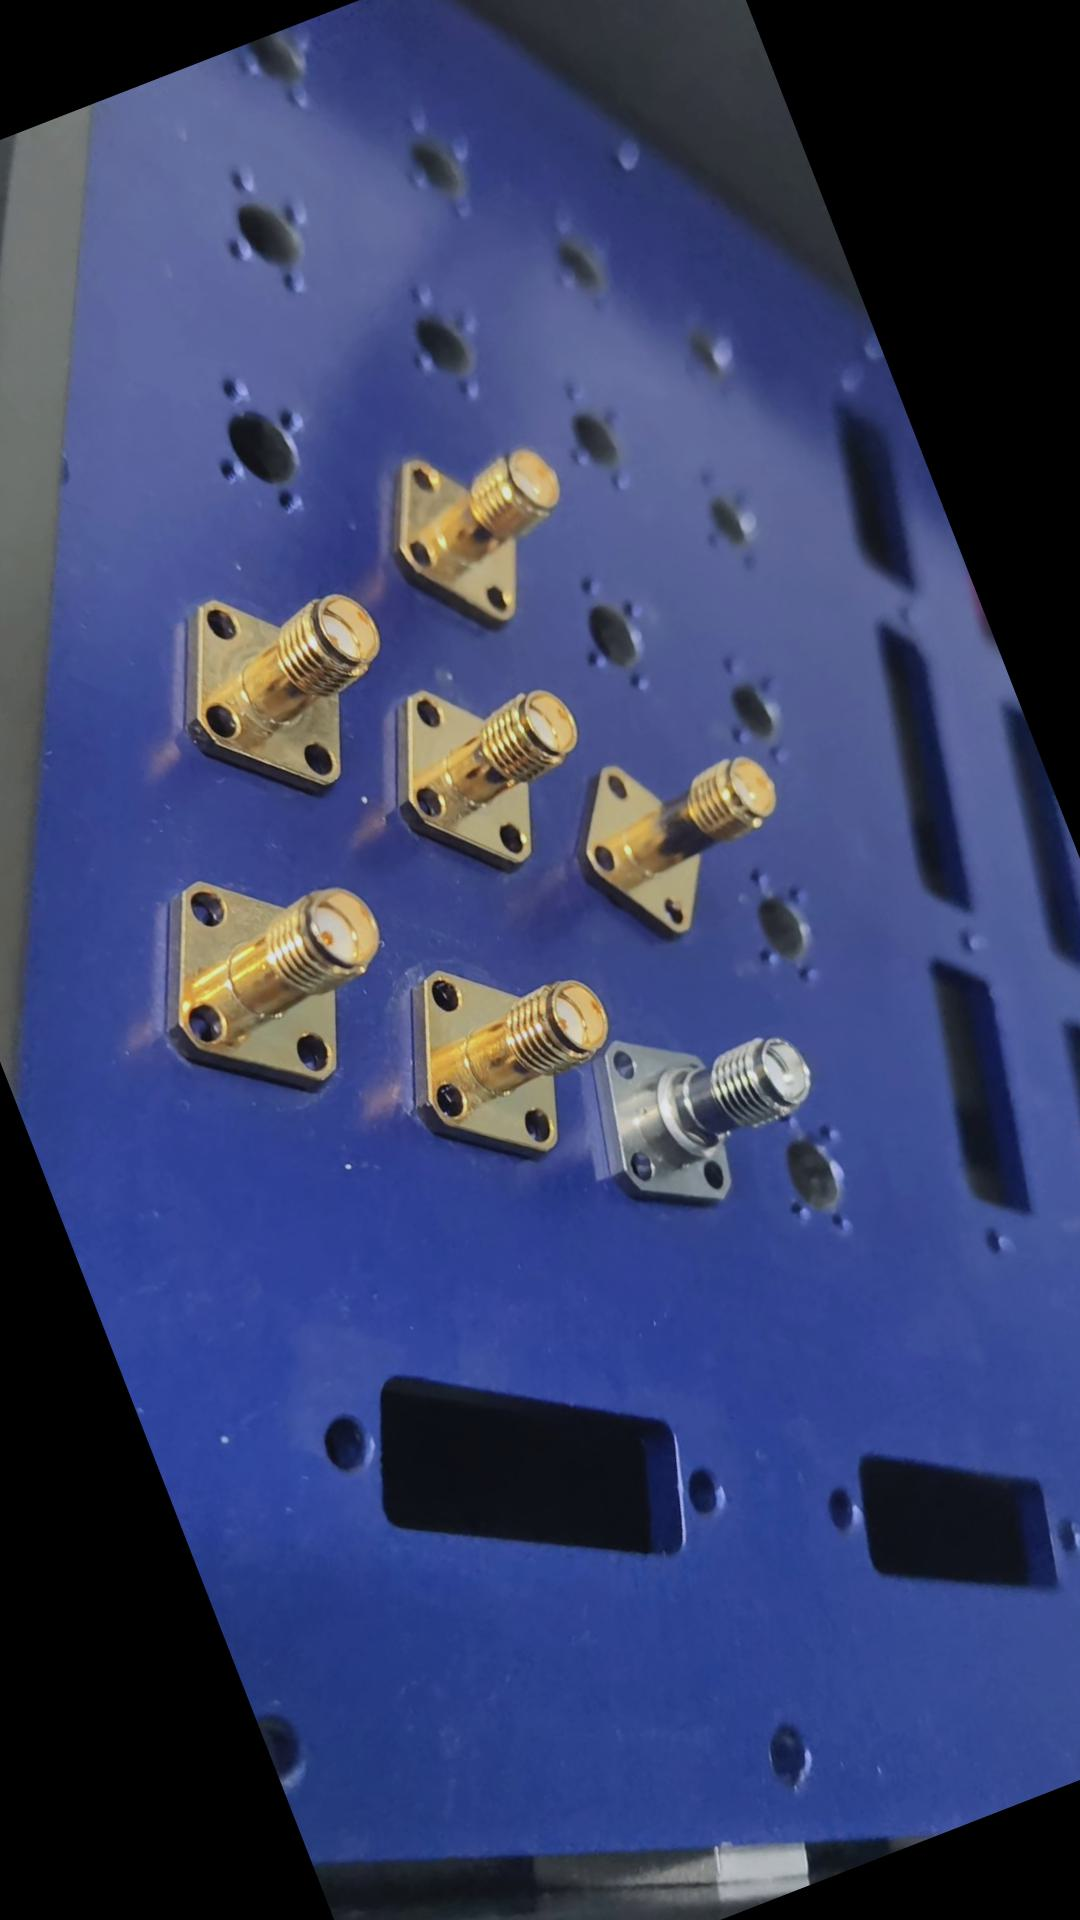SMA: (117, 825, 426, 1131), (146, 545, 425, 833), (562, 960, 851, 1237), (378, 915, 646, 1184), (357, 630, 617, 895), (556, 702, 814, 953), (369, 404, 607, 653)
